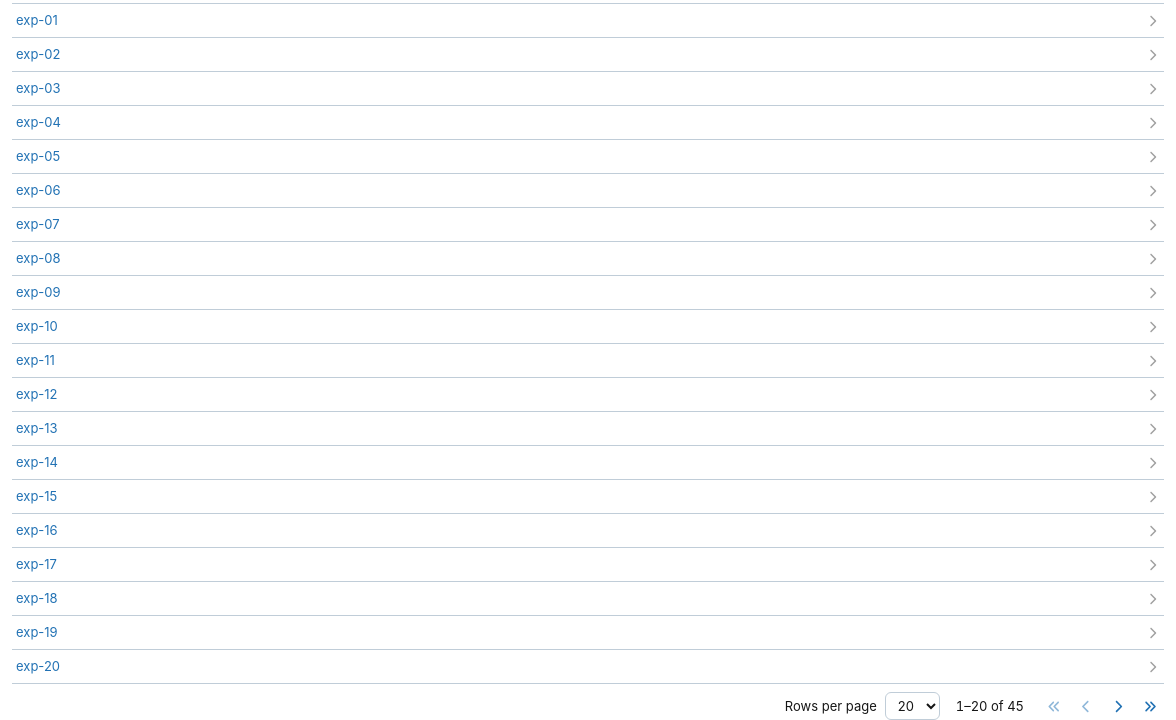
Test: ExperimentsPage server-side pagination › falls back to client-side paging and search without X-Total-Count
(page scrolled)
Check: the link "exp-01" is shown, box [16,12,58,28]
Check: the text "exp-21" is not shown
Click the button named "Next page". click: [1118, 706]
box: [1104,692,1132,719]
(page scrolled)
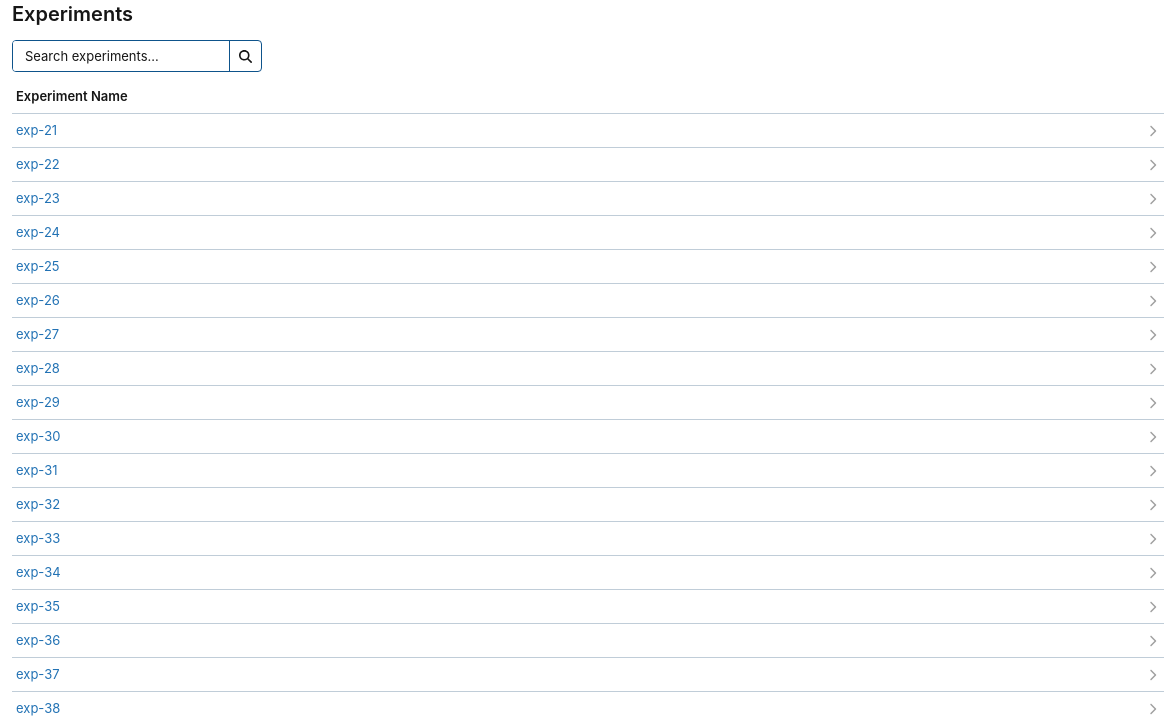
Check: the link "exp-21" is shown, box [16,122,57,138]
Type "exp-4" into the field with placeholder "Search experiments...". click: [121, 56]
box: [13,41,229,71]
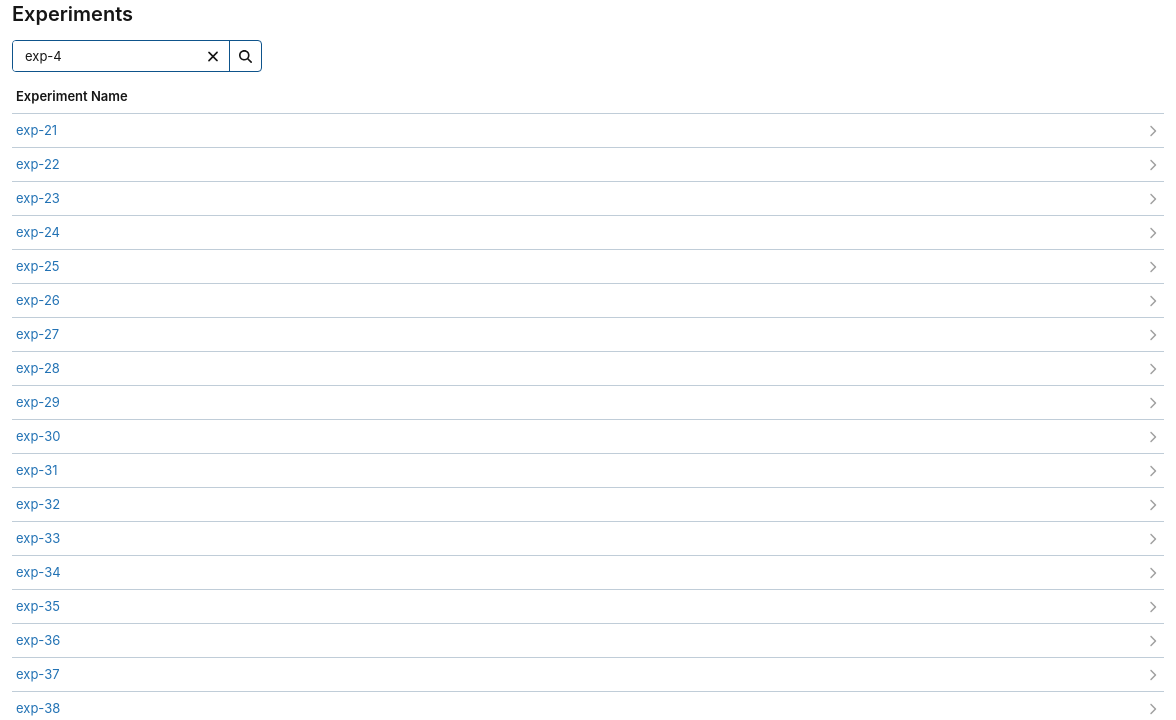
Submit the form from the field with placeholder "Search experiments...", box [13,41,229,71]
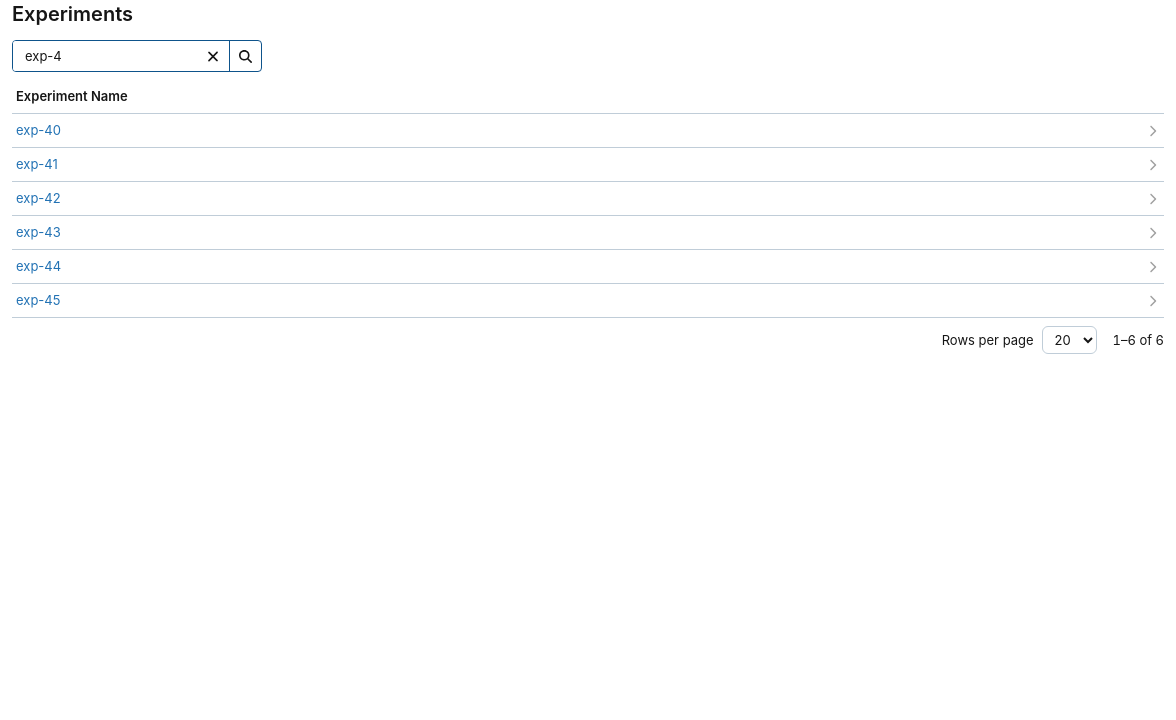
Check: the link "exp-01" is not shown
Check: the link "exp-45" is shown, box [16,292,60,308]
Check: the text with test id "pagination-range" reads "1–6 of 6", box [1113,332,1164,348]
